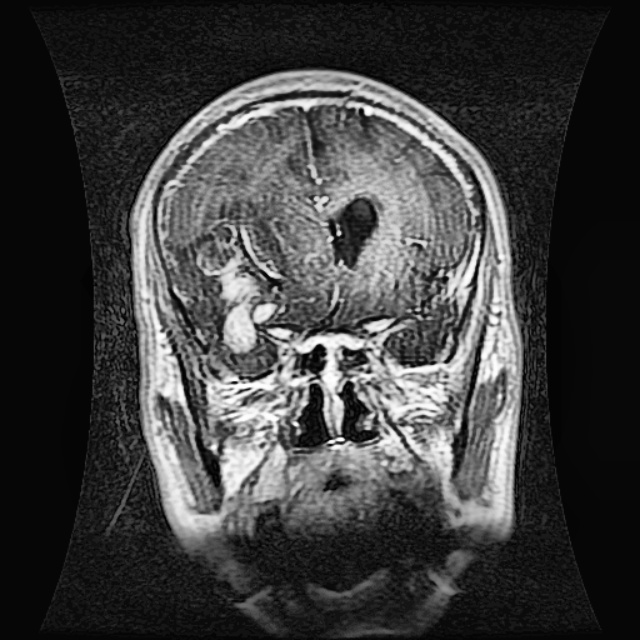Glioma: (192, 220, 284, 354)
